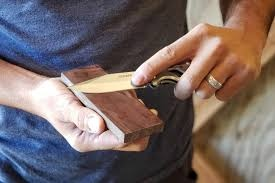knife: (65, 61, 221, 98)
